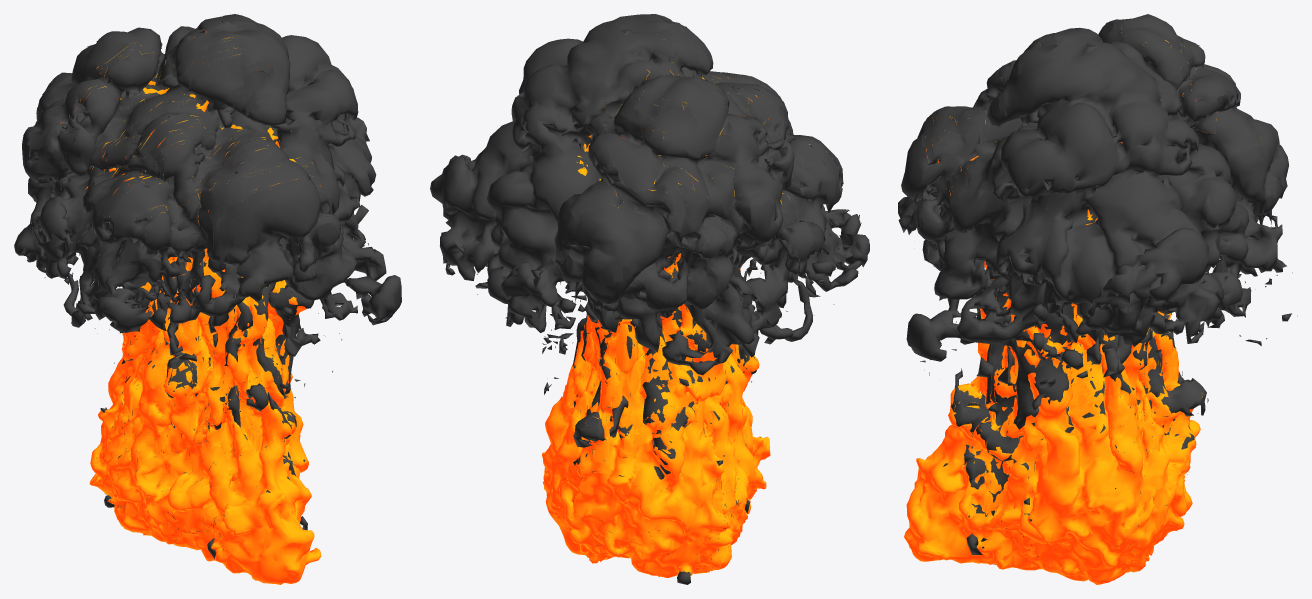
File: fire_optimized.glb
3 views of the same model, side by side, from view 1: azimuth 30°, elevation 25°; view 2: azimuth 150°, elevation 25°; view 3: azimuth 270°, elevation 25° (orthographic). The views are drawn at different scales.
Parts seen in each view (by area): view 1: Smoke, Smoke_Smoke_0.001, Fire_Fire_0.002, Fire_Fire_0.001, Fire; view 2: Smoke, Smoke_Smoke_0.001, Fire, Fire_Fire_0.002, Fire_Fire_0.001; view 3: Smoke, Fire_Fire_0.001, Fire_Fire_0.002, Fire, Smoke_Smoke_0.001, Fire_Fire_0.003.
Boxes of the visible parts, <box> form: Smoke: <box>14,14,401,549</box>; Smoke_Smoke_0.001: <box>21,20,340,558</box>; Fire_Fire_0.002: <box>69,31,321,584</box>; Fire_Fire_0.001: <box>64,46,320,571</box>; Fire: <box>61,31,273,516</box>; Smoke: <box>430,14,852,554</box>; Smoke_Smoke_0.001: <box>537,19,869,584</box>; Fire: <box>543,34,789,577</box>; Fire_Fire_0.002: <box>569,70,783,576</box>; Fire_Fire_0.001: <box>542,76,792,573</box>; Smoke: <box>898,14,1288,556</box>; Fire_Fire_0.001: <box>925,77,1195,584</box>; Fire_Fire_0.002: <box>904,28,1202,569</box>; Fire: <box>1057,44,1257,579</box>; Smoke_Smoke_0.001: <box>898,19,1297,564</box>; Fire_Fire_0.003: <box>924,42,1216,578</box>.
Size of the model in its own units: 3.31 by 4.68 by 3.24.
